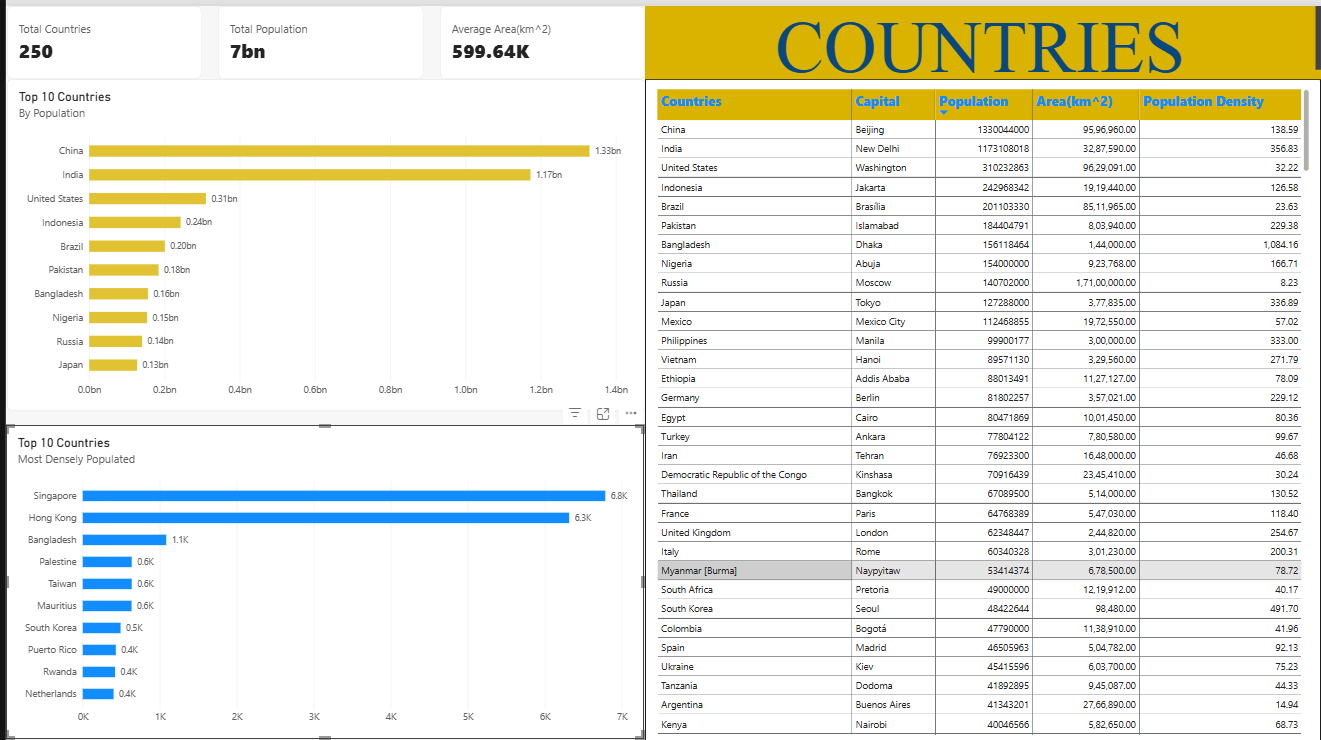

Layout of this report page (visuals, bound fields, positions):
{"tool":"powerbi","page":{"name":"Page 1","canvas":[1920,1080],"ordinal":0},"visuals":[{"type":"cardVisual","fields":{"Data":["Count(countries.Name)"]},"box":[1.5,0,284.7,106.6],"z":0},{"type":"cardVisual","fields":{"Data":["Sum(countries.Population)"]},"box":[309.5,0,300.8,106.6],"z":1000},{"type":"cardVisual","fields":{"Data":["Avg(countries.Area(km^2))"]},"box":[633.7,0,299.3,106.6],"z":2000},{"type":"clusteredBarChart","title":"Top 10 Countries","fields":{"Category":["countries.Name"],"Y":["Sum(countries.Population)"]},"box":[1.5,106.6,931.5,484.7],"z":3000},{"type":"clusteredBarChart","title":"Top 10 Countries by Population Density","fields":{"Category":["countries.Name"],"Y":["Sum(countries.Population Density)"]},"box":[0,611.8,932,458],"z":4000},{"type":"tableEx","fields":{"Values":["countries.Name","countries.Capital","Sum(countries.Population)","Sum(countries.Area(km^2))","Sum(countries.Population Density)"]},"box":[933,106.6,987,973.9],"z":5000},{"type":"textbox","box":[933,0,987,106.6],"z":6000}]}

Visuals, with their boxes in screenshot pixels (x1, y1, x2, y2), scaled from the page's 1920x1080 canvas onto the 1321x740 screenshot:
cardVisual - Count(countries.Name): <bbox>1, 0, 197, 73</bbox>
cardVisual - Sum(countries.Population): <bbox>213, 0, 420, 73</bbox>
cardVisual - Avg(countries.Area(km^2)): <bbox>436, 0, 642, 73</bbox>
"Top 10 Countries" clusteredBarChart: <bbox>1, 73, 642, 405</bbox>
"Top 10 Countries by Population Density" clusteredBarChart: <bbox>0, 419, 641, 733</bbox>
tableEx - countries.Name x countries.Capital: <bbox>642, 73, 1320, 739</bbox>
textbox: <bbox>642, 0, 1320, 73</bbox>
